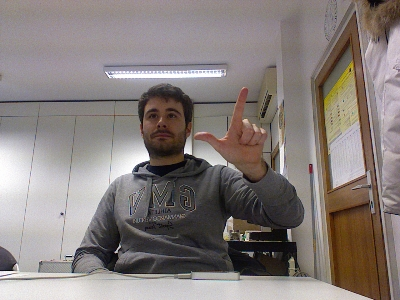枪: (191, 86, 267, 164)
